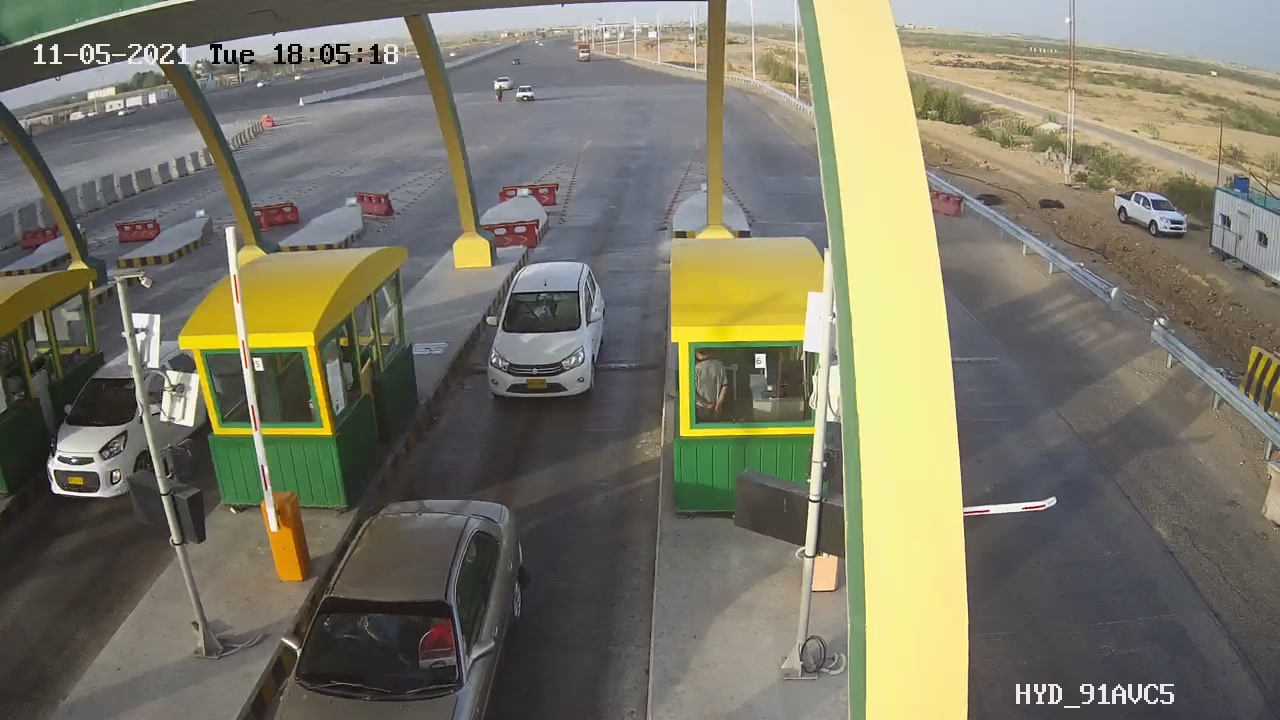F1: (473, 249, 634, 430)
